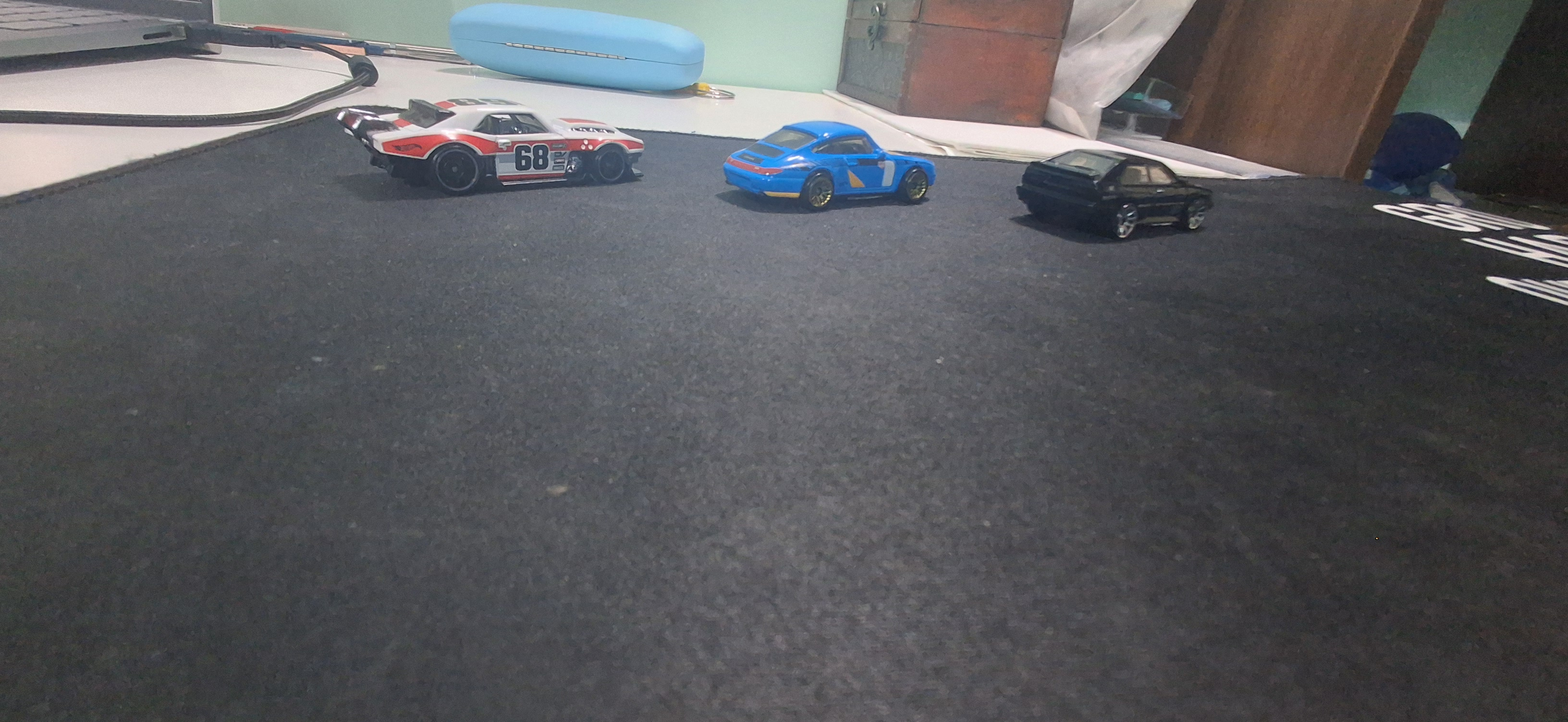Audi_Quattro: (1018, 117, 1265, 287)
Camaro: (325, 92, 670, 194)
Porsche_Carrera: (714, 113, 961, 216)
